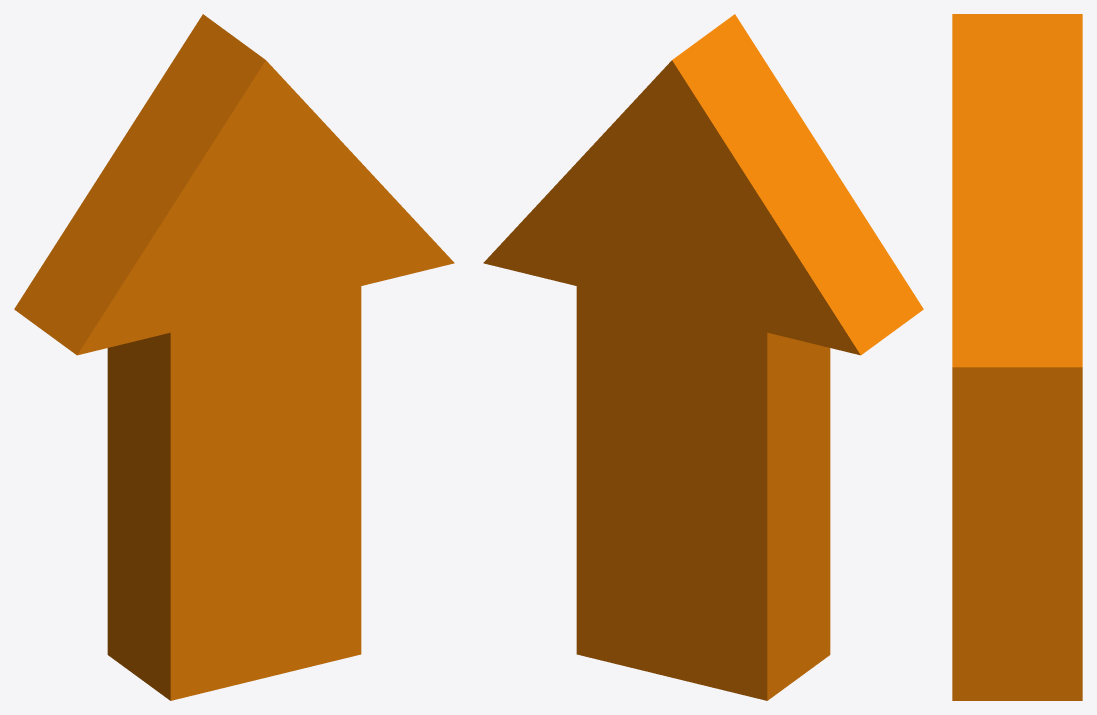
The model's file is Arrow.fbx.
3 views of the same model, side by side, from view 1: azimuth 30°, elevation 25°; view 2: azimuth 150°, elevation 25°; view 3: azimuth 270°, elevation 25° (orthographic). The views are drawn at different scales.
Visible parts, largest first — view 1: geothermal.001; view 2: geothermal.001; view 3: geothermal.001.
Part boxes in pixels (bbox=[...]): geothermal.001: bbox=[14, 14, 454, 700]; geothermal.001: bbox=[483, 14, 923, 700]; geothermal.001: bbox=[952, 14, 1082, 700].
Size of the model in its own units: 169 by 263 by 48.67.
